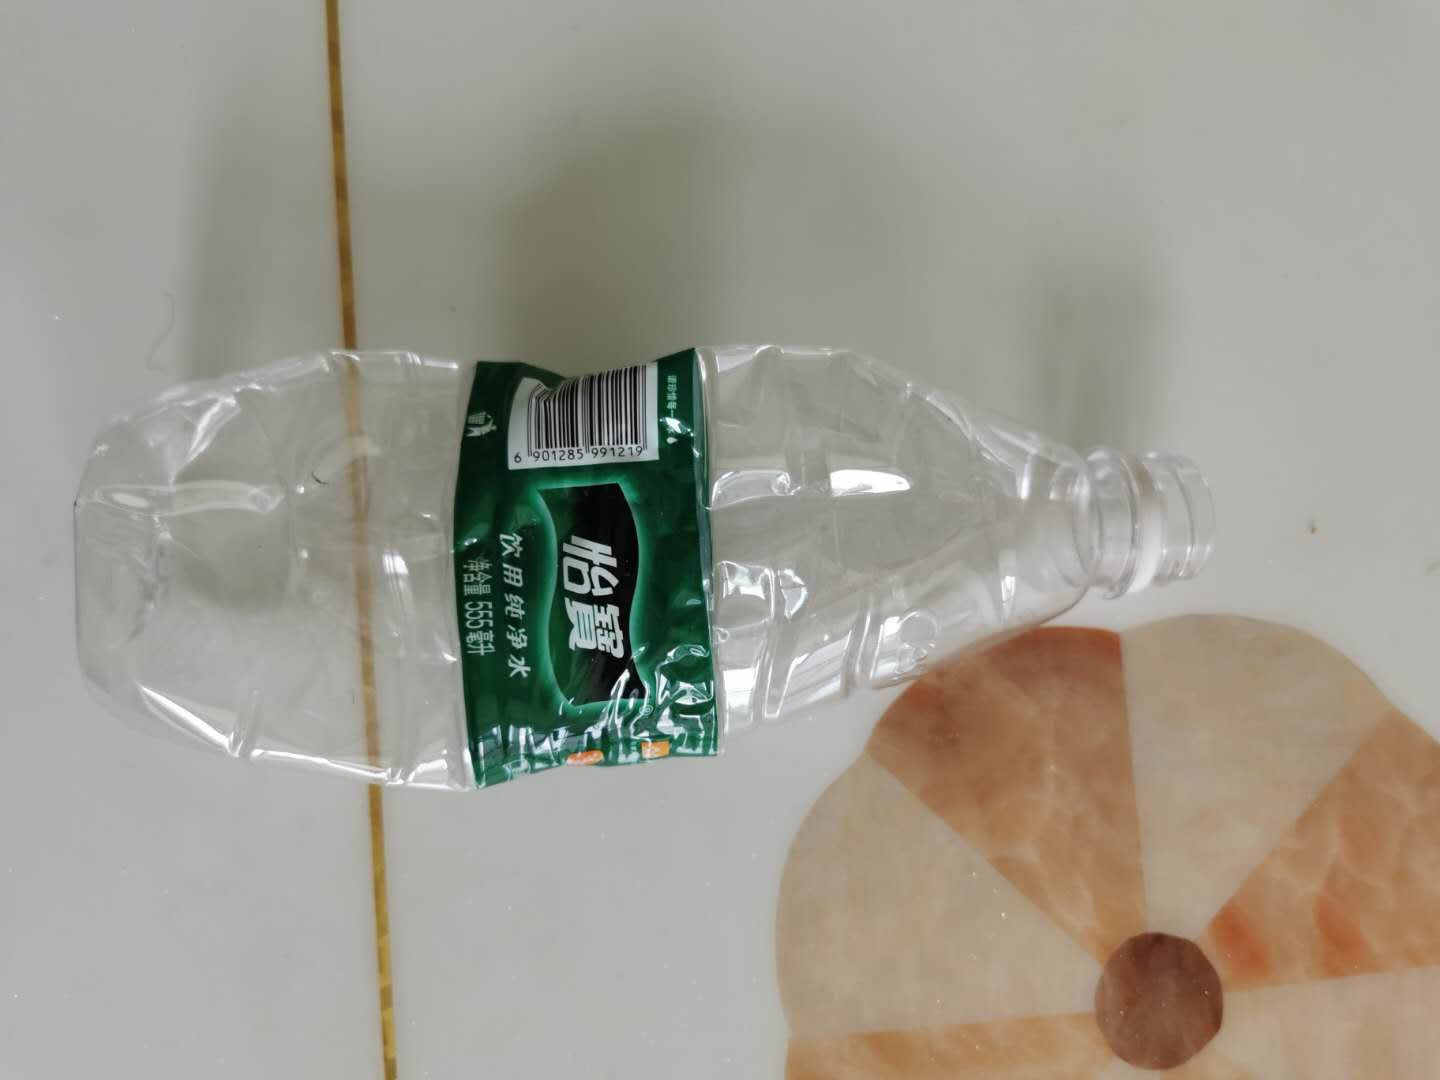怡宝: (57, 321, 1235, 821)
